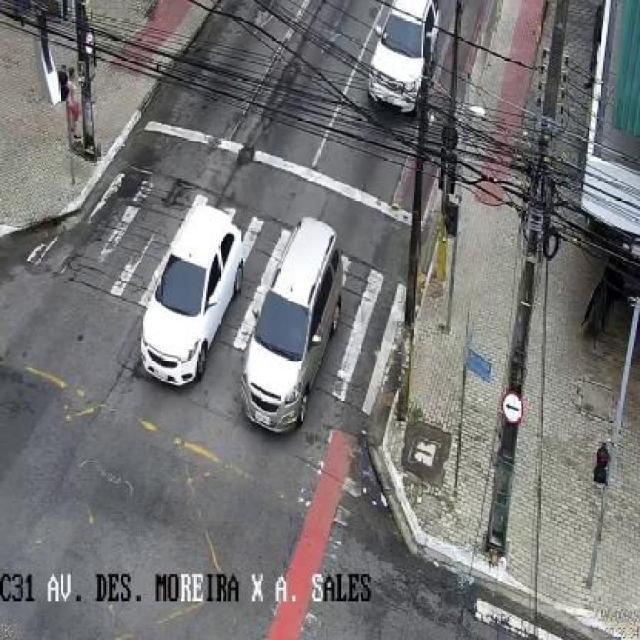Car: (217, 209, 339, 466), (127, 208, 235, 407), (348, 0, 448, 134)
